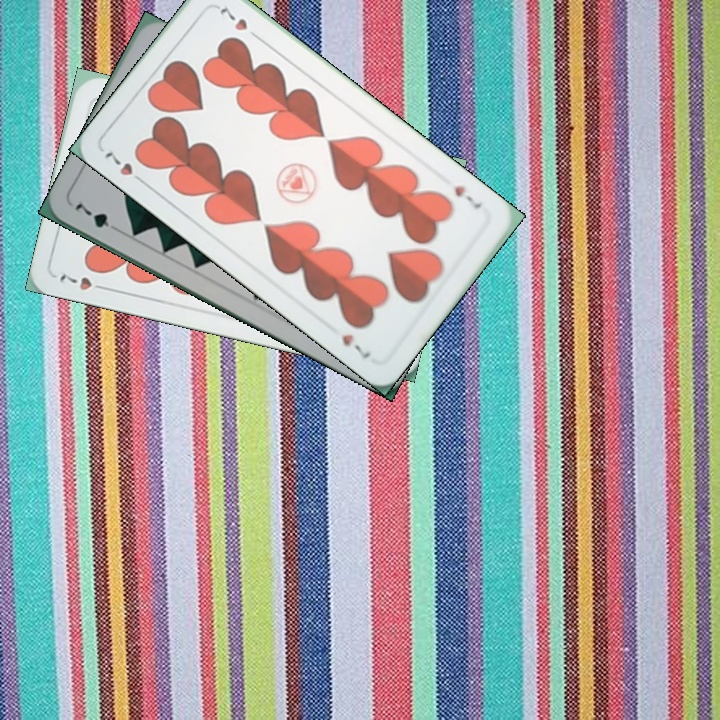G7: (71, 195, 124, 235)
H7: (99, 147, 150, 188), (55, 270, 112, 294), (450, 181, 485, 212)
